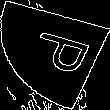P_E: (16, 28, 94, 82)
